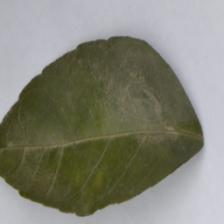healthy: (0, 34, 206, 216)
